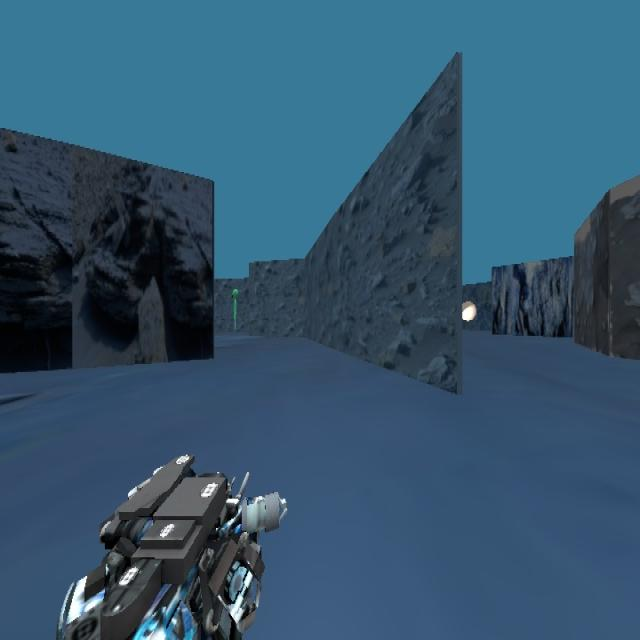Alien: (220, 244, 247, 367)
Circle: (462, 300, 476, 321)
